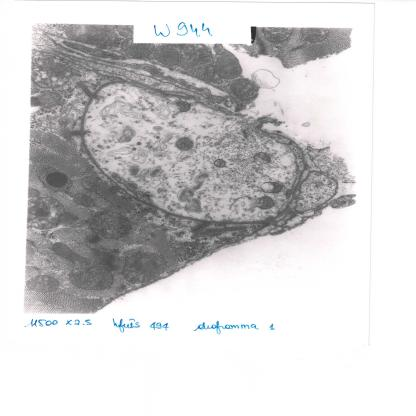mitochondria: (52, 242, 116, 292), (174, 43, 216, 82), (119, 252, 168, 284), (66, 24, 124, 47), (209, 44, 243, 80), (90, 210, 132, 239), (35, 165, 74, 192), (227, 78, 260, 104), (27, 274, 60, 294), (152, 45, 182, 65), (262, 27, 296, 44), (295, 28, 331, 43), (79, 175, 102, 193), (72, 193, 97, 208), (260, 181, 285, 194), (173, 137, 196, 151), (255, 196, 276, 210), (252, 151, 271, 166), (172, 100, 192, 113), (212, 158, 227, 168)
